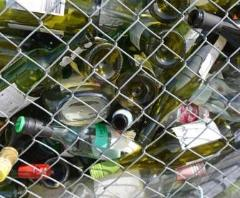glass: (0, 0, 240, 190)
